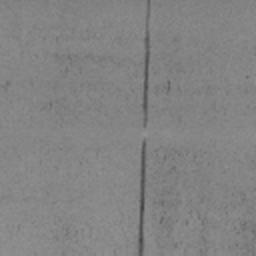Scratches: (142, 0, 150, 129), (138, 138, 146, 256)
